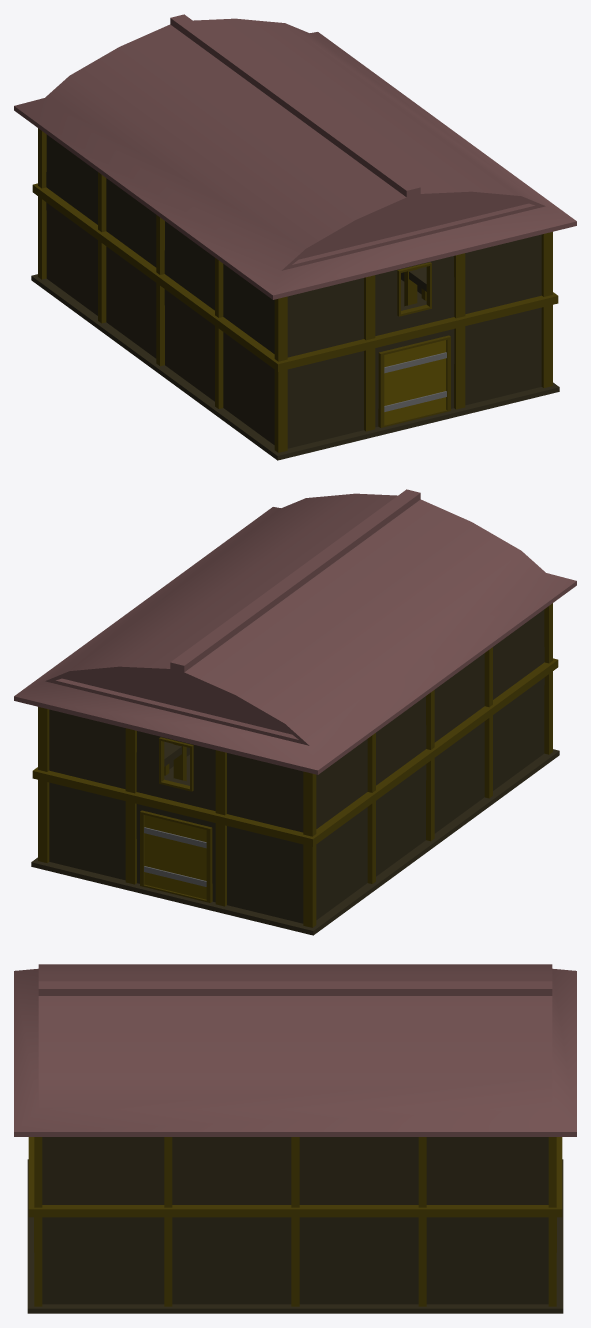
File: Barn.fbx
3 views of the same model, one above another, from view 1: azimuth 30°, elevation 25°; view 2: azimuth 150°, elevation 25°; view 3: azimuth 270°, elevation 25° (orthographic). The views are drawn at different scales.
Parts seen in each view (by area): view 1: Barn, Door20, Door19; view 2: Barn, Door33, Door34; view 3: Barn.
Part boxes in pixels (bbox=[...]): Barn: bbox=[14, 14, 576, 460]; Door20: bbox=[414, 340, 446, 416]; Door19: bbox=[384, 347, 415, 424]; Barn: bbox=[14, 489, 576, 935]; Door33: bbox=[144, 815, 176, 891]; Door34: bbox=[175, 822, 206, 899]; Barn: bbox=[14, 964, 576, 1313].
Bounding box in the file's own units: 27 × 19.81 × 39.85.
